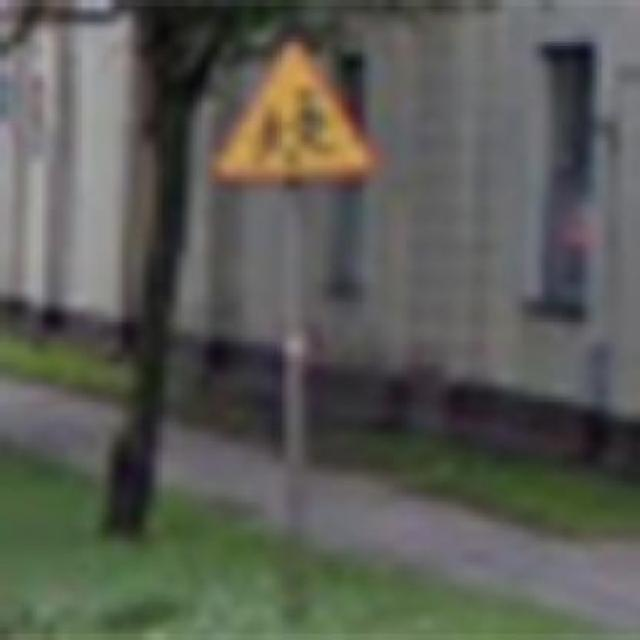Dzieci: (207, 34, 379, 188)
